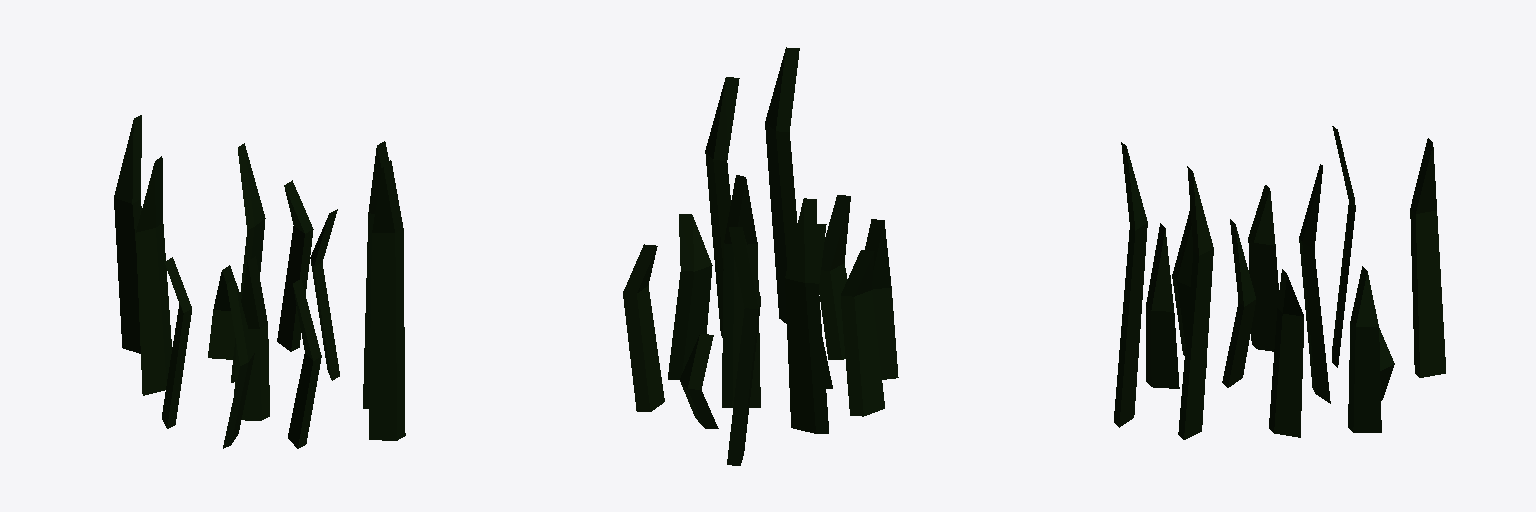
Rendered from Grass_Short.obj.
3 renders of one model, left to right at view 1: azimuth 30°, elevation 25°; view 2: azimuth 150°, elevation 25°; view 3: azimuth 270°, elevation 25°, orthographic.
Parts seen in each view (by area): view 1: Grass_Short_Plane.002; view 2: Grass_Short_Plane.002; view 3: Grass_Short_Plane.002.
Part boxes in pixels (x1,y1,x2,y2): Grass_Short_Plane.002: (114, 115, 405, 448); Grass_Short_Plane.002: (623, 47, 898, 465); Grass_Short_Plane.002: (1114, 126, 1445, 439).
Size of the model in its own units: 0.3162 by 0.4046 by 0.4417.